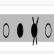correct: (17, 20, 24, 40)
not correct: (31, 15, 39, 46)
